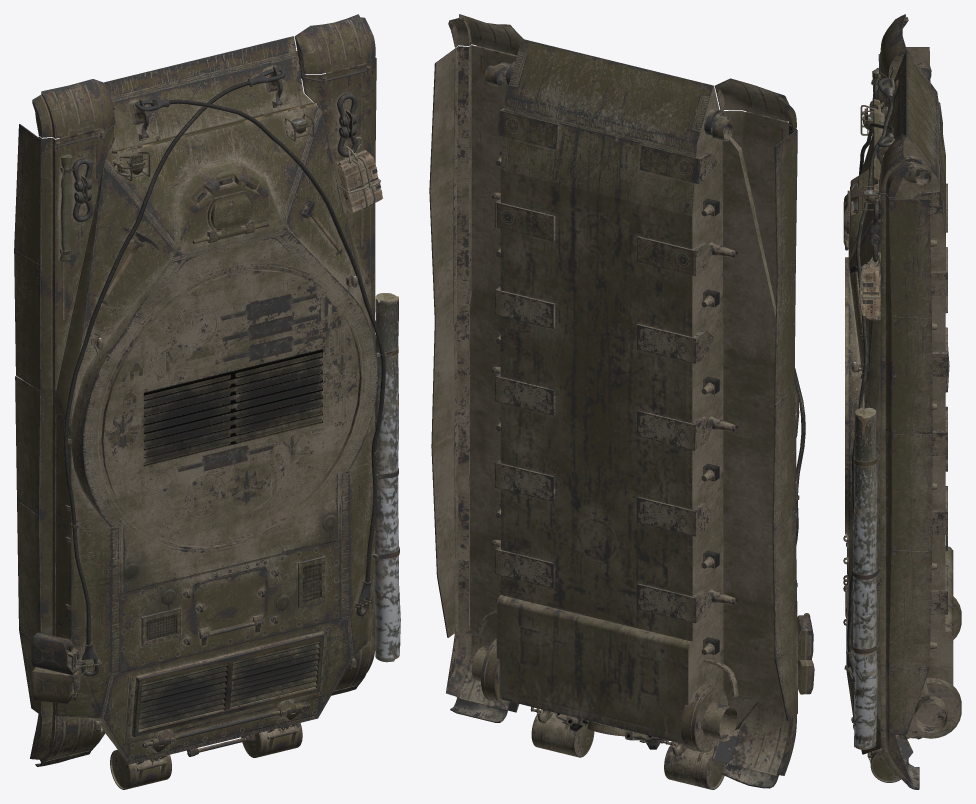
Rendered from Hull.glb.
3 views of the same model, side by side, from view 1: azimuth 30°, elevation 25°; view 2: azimuth 150°, elevation 25°; view 3: azimuth 270°, elevation 25° (orthographic). The views are drawn at different scales.
Parts seen in each view (by area): view 1: set_0_group_0, set_0_group_1; view 2: set_0_group_0, set_0_group_1; view 3: set_0_group_0, set_0_group_1.
Boxes of the visible parts, x1=… form: set_0_group_0: x1=14, y1=14, x2=399, y2=789; set_0_group_1: x1=31, y1=67, x2=400, y2=732; set_0_group_0: x1=429, y1=14, x2=799, y2=789; set_0_group_1: x1=555, y1=368, x2=814, y2=749; set_0_group_0: x1=843, y1=14, x2=961, y2=789; set_0_group_1: x1=846, y1=68, x2=894, y2=749.
Size of the model in its own units: 4.16 by 7.87 by 1.28.
2 materials, 2 textured.
